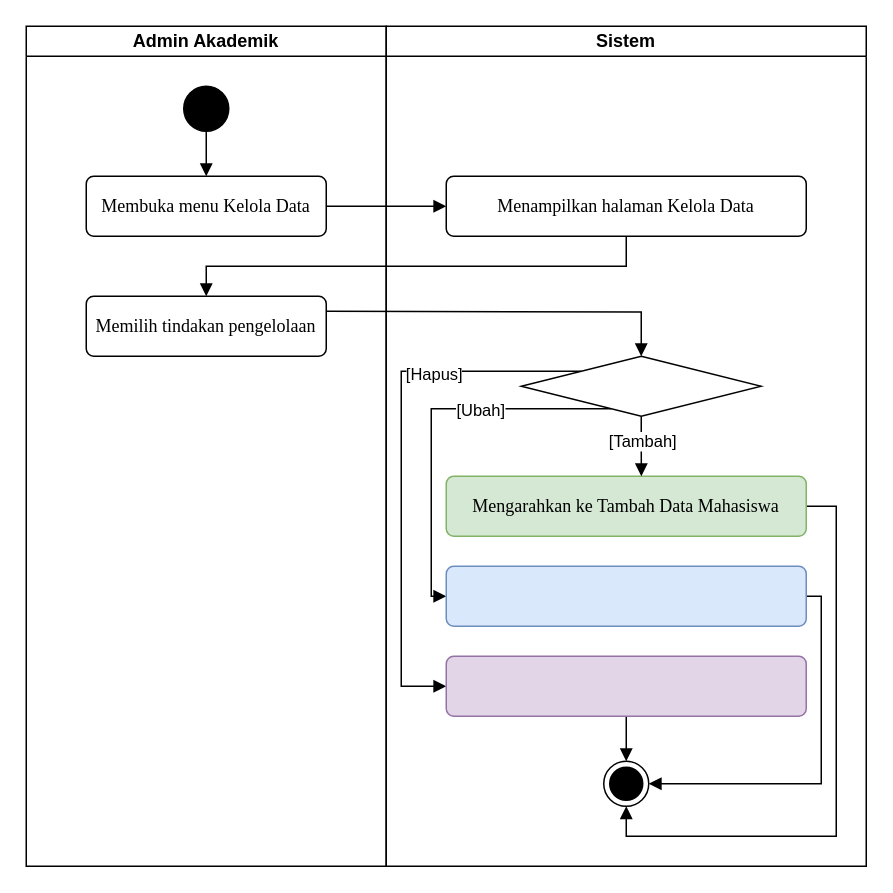
Some shapes in this 893 by 893 pixel diagram are drawn without their labels. The shapes that lost their labels are listed below. From the top down, each one's centre as x and y in pixels, then its label:
At pixel 640 385: "Jenis pengelolaan?".
At pixel 625 595: "Mengarahkan ke Ubah Data Mahasiswa".
At pixel 625 685: "Mengarahkan ke Hapus Data Mahasiswa".
